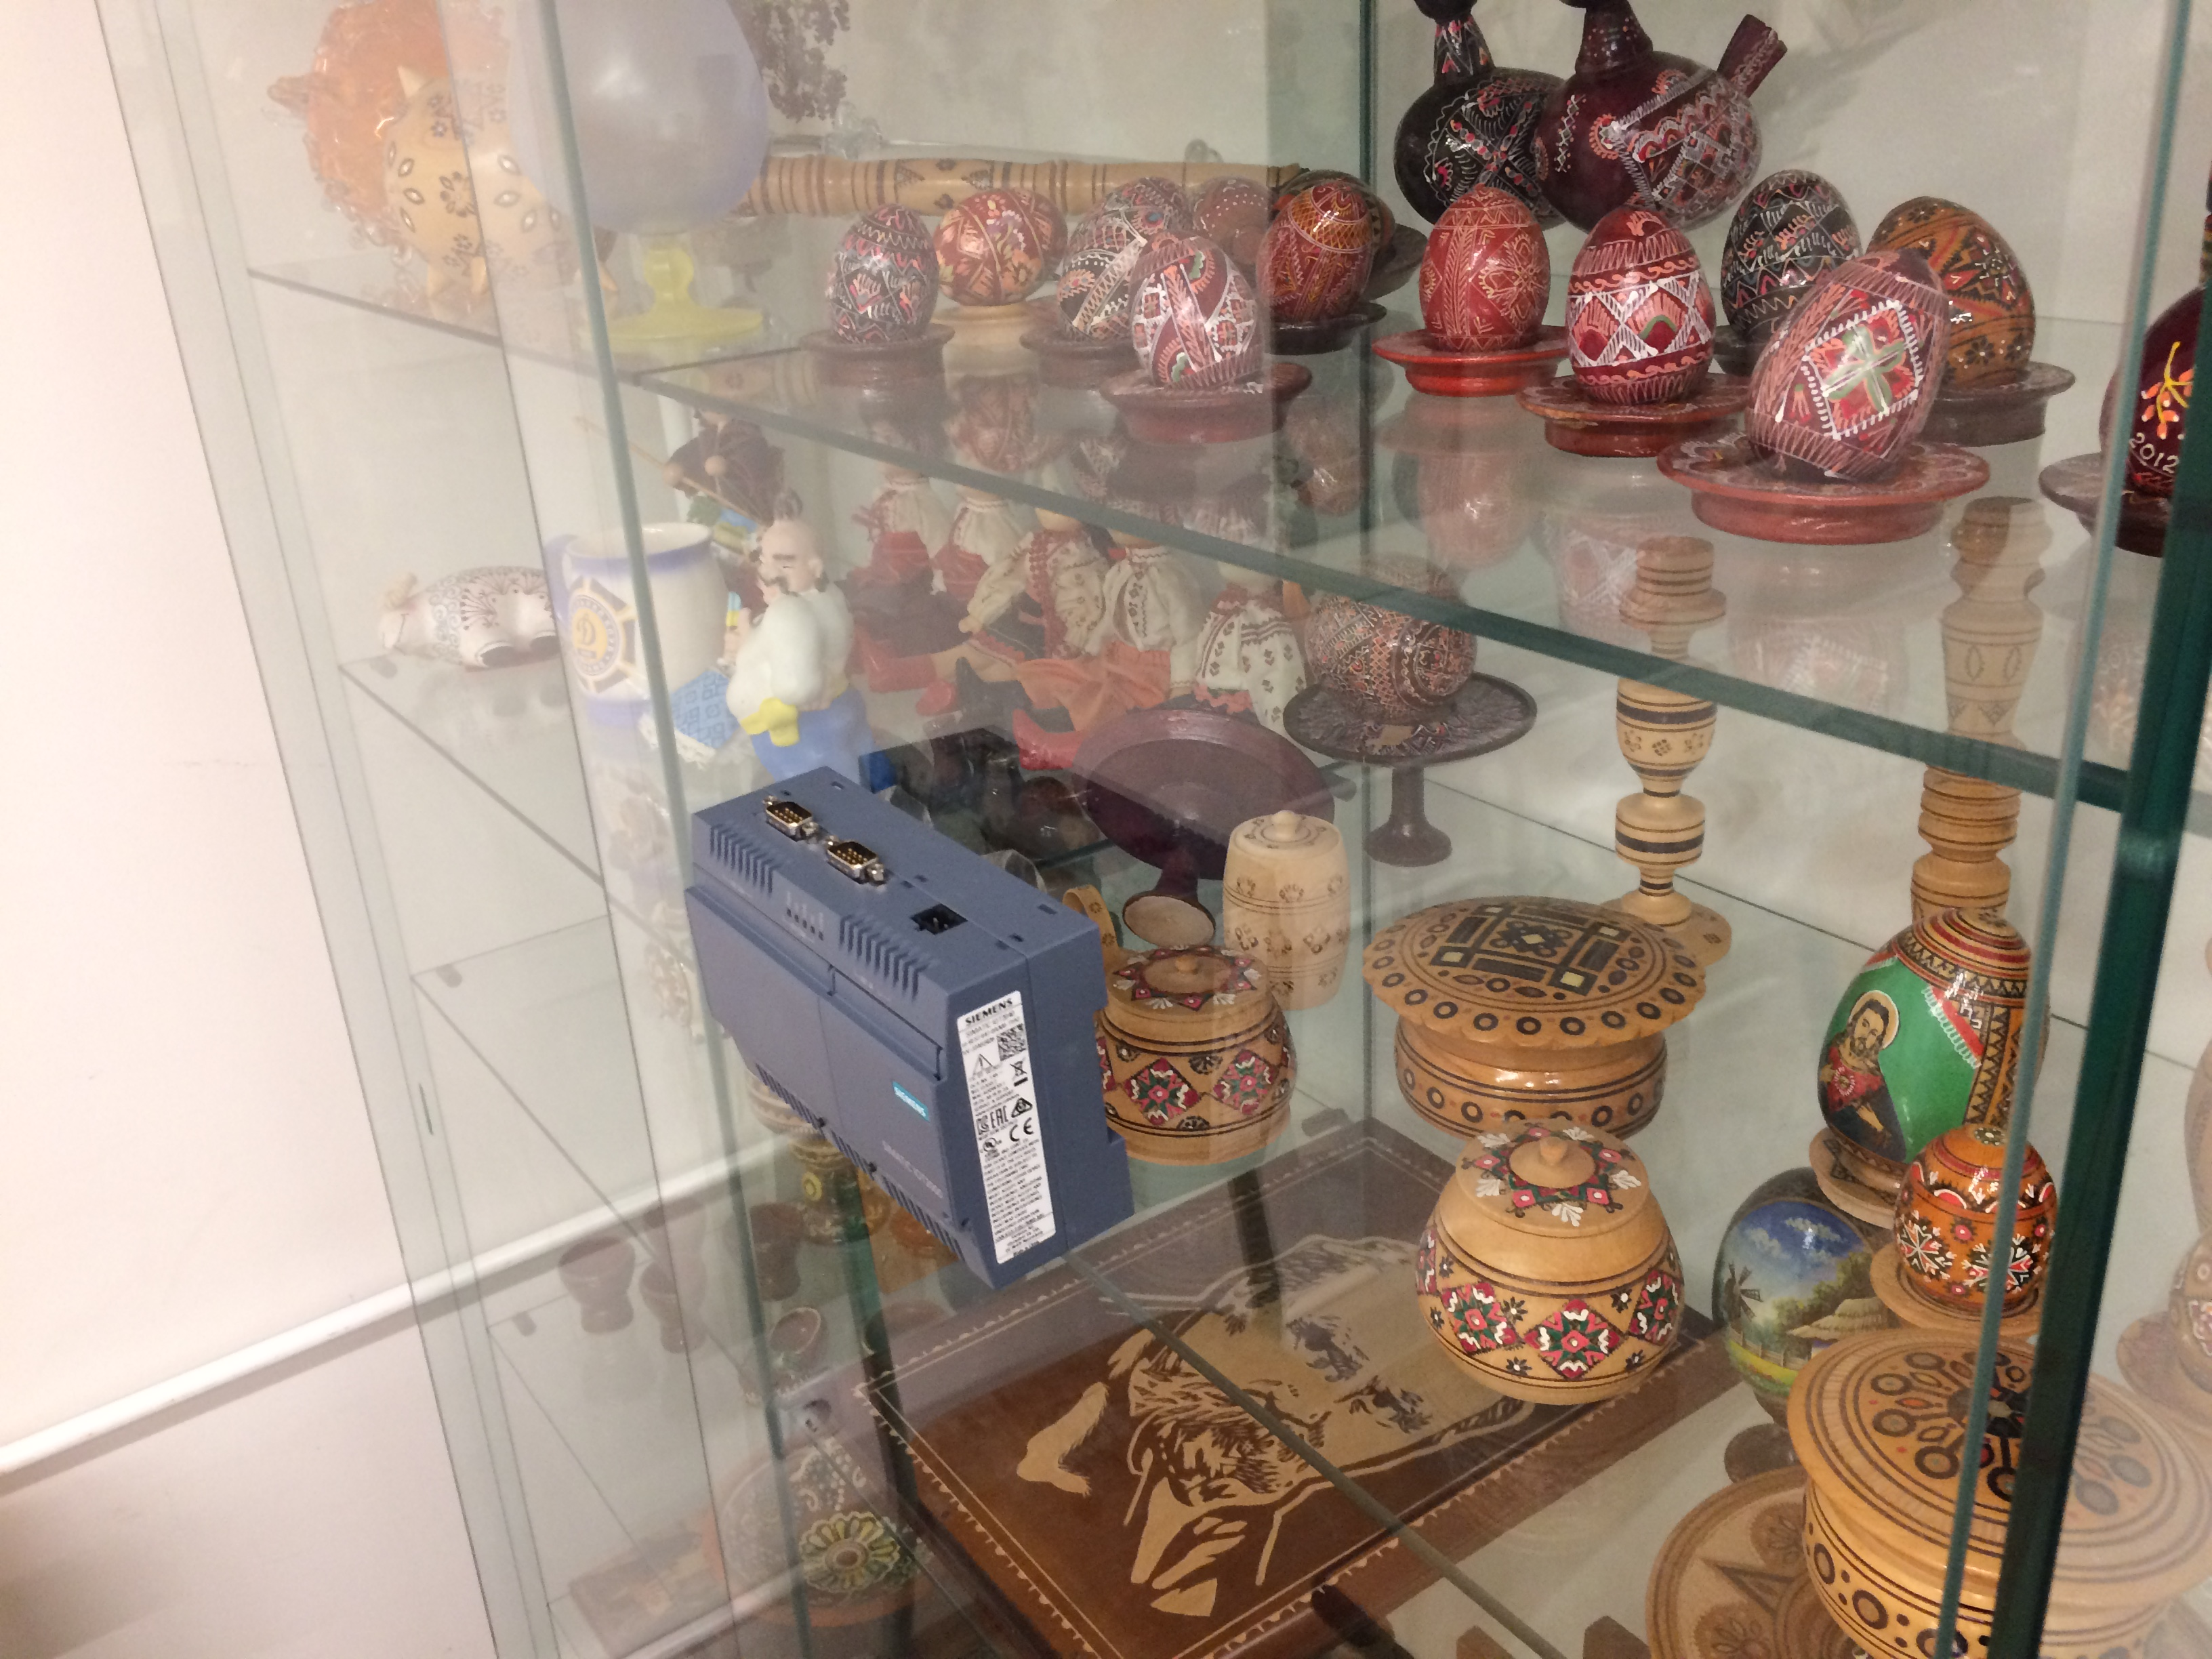iot2000: (681, 760, 1139, 1293)
